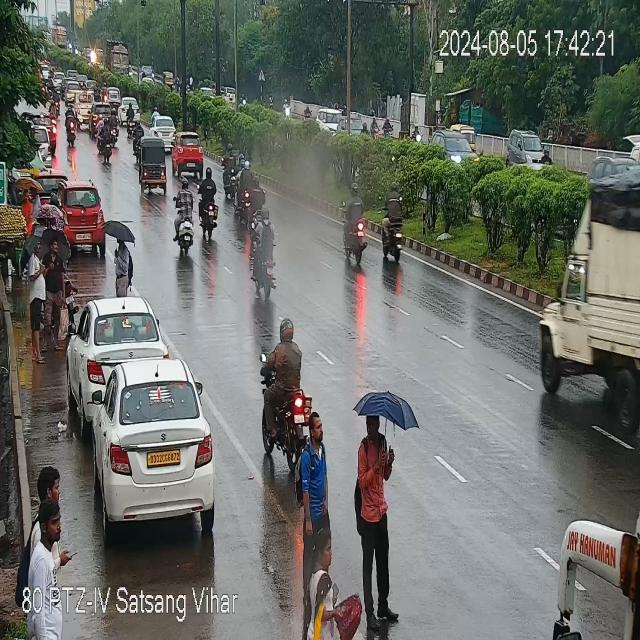2-wheelers: (260, 324, 312, 468), (250, 200, 277, 300), (372, 190, 407, 260), (339, 194, 373, 264), (232, 162, 268, 220), (173, 190, 200, 254), (197, 172, 223, 238), (89, 109, 122, 160), (62, 102, 83, 146), (368, 115, 395, 143), (125, 103, 137, 137), (52, 89, 62, 115), (100, 80, 108, 104)
auto: (136, 142, 176, 197), (162, 71, 174, 92)
car: (80, 358, 222, 531), (70, 298, 164, 399), (58, 182, 105, 244), (33, 112, 57, 168), (174, 134, 209, 170), (146, 116, 183, 140), (140, 64, 157, 86), (64, 81, 80, 102), (108, 87, 120, 106)
pedestrian: (298, 530, 362, 640), (354, 406, 396, 555), (26, 503, 71, 640), (299, 416, 330, 552), (102, 222, 136, 290), (31, 464, 65, 526), (28, 243, 47, 351), (48, 247, 67, 346), (24, 186, 41, 236)
truck: (536, 128, 639, 394), (106, 38, 131, 77), (54, 23, 68, 51)
